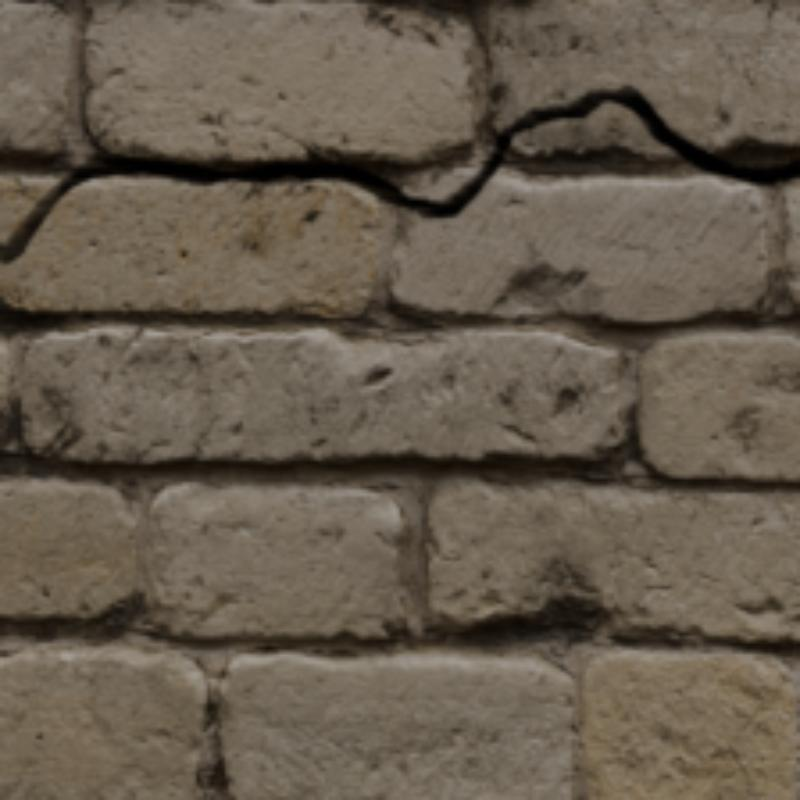crack: (1, 87, 798, 262)
